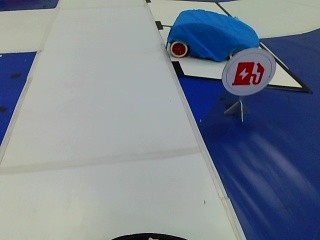battery: (224, 52, 273, 93)
car: (157, 8, 261, 63)
